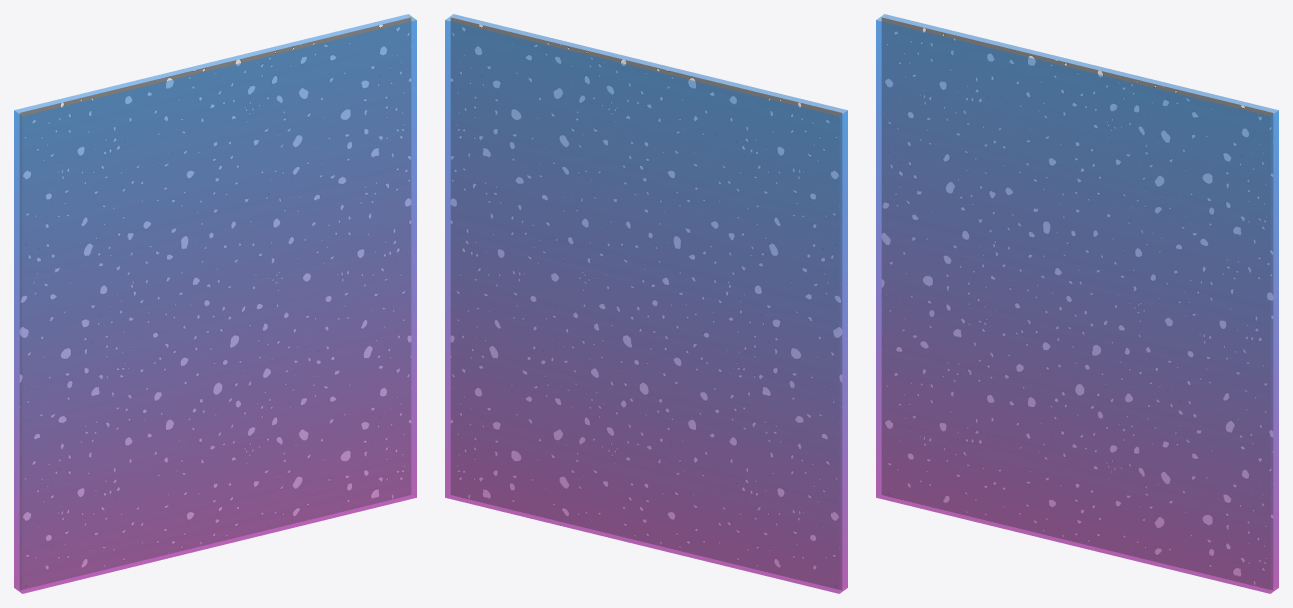
File: DoorPlasma_01.glb
3 renders of one model, left to right at view 1: azimuth 30°, elevation 25°; view 2: azimuth 150°, elevation 25°; view 3: azimuth 330°, elevation 25°, orthographic.
Visible parts, largest first — view 1: DoorPlasma_01; view 2: DoorPlasma_01; view 3: DoorPlasma_01.
Part boxes in pixels (x1,y1,x2,y2): DoorPlasma_01: [14, 14, 416, 593]; DoorPlasma_01: [445, 14, 847, 593]; DoorPlasma_01: [876, 14, 1278, 593].
Bounding box in the file's own units: 3.29 × 3.81 × 0.1208.
Materials: 2 (2 with a texture image).
